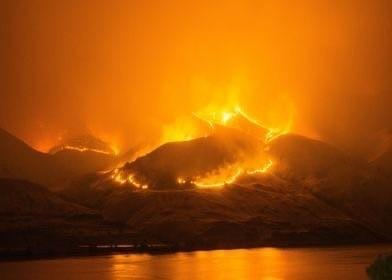fire: (105, 88, 291, 190), (37, 126, 110, 161)
